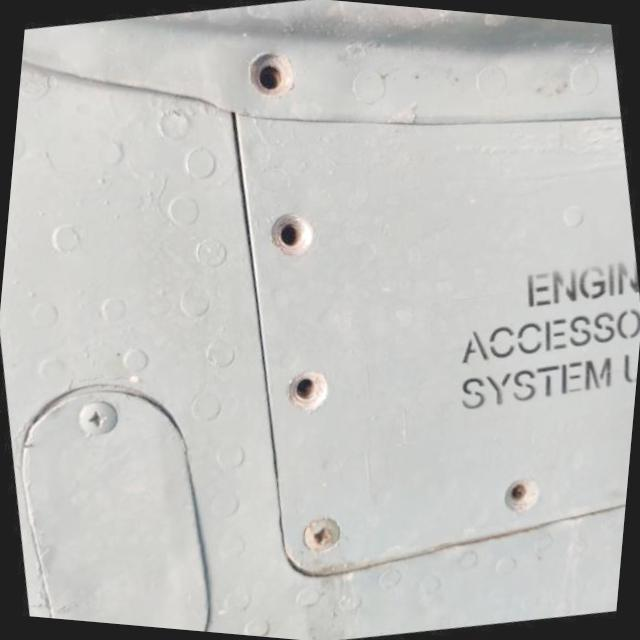Missing Fastener: (242, 48, 302, 110), (266, 210, 320, 263), (282, 365, 335, 418), (499, 474, 548, 521)
